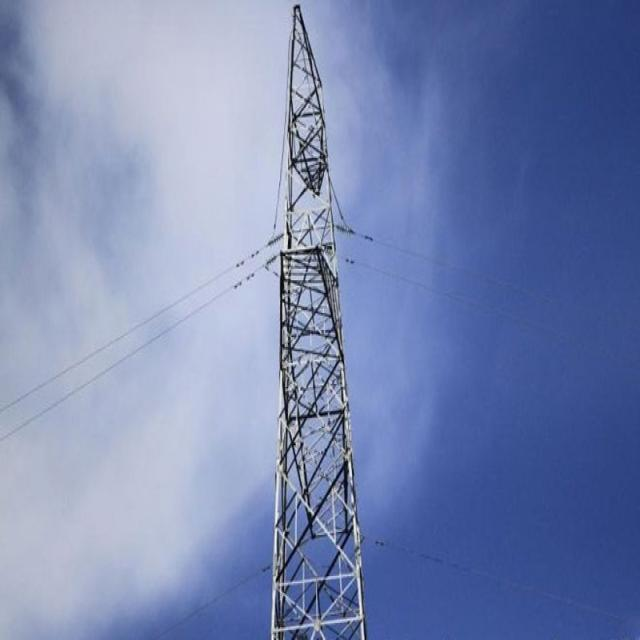non-critical vegetation: (252, 9, 378, 632)
